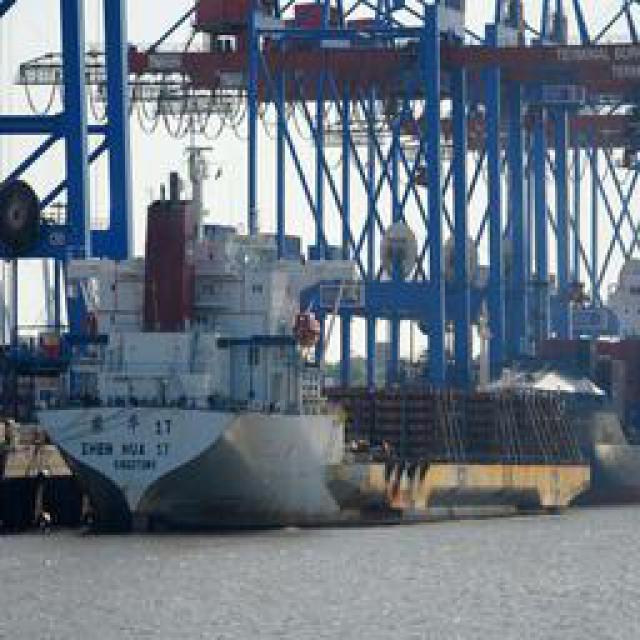Ship: (31, 158, 613, 526)
